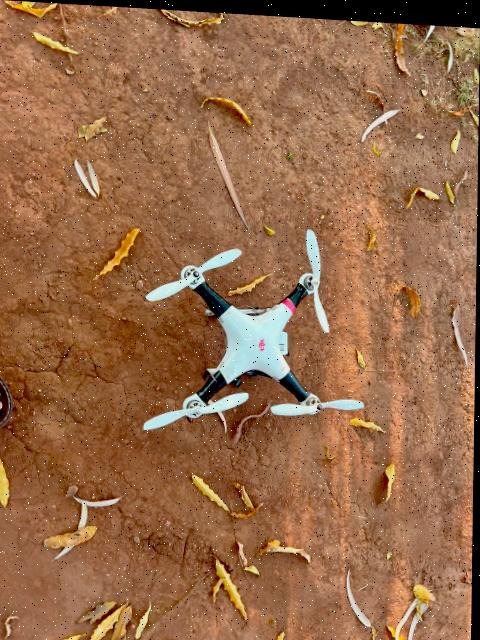drone: (122, 183, 398, 502)
